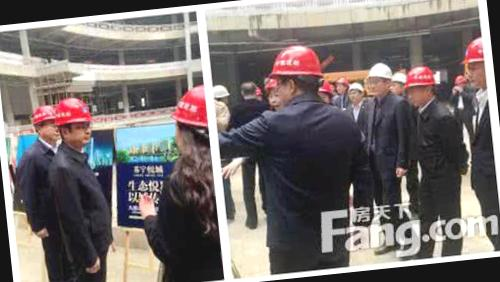no_helmet: (238, 76, 258, 101)
